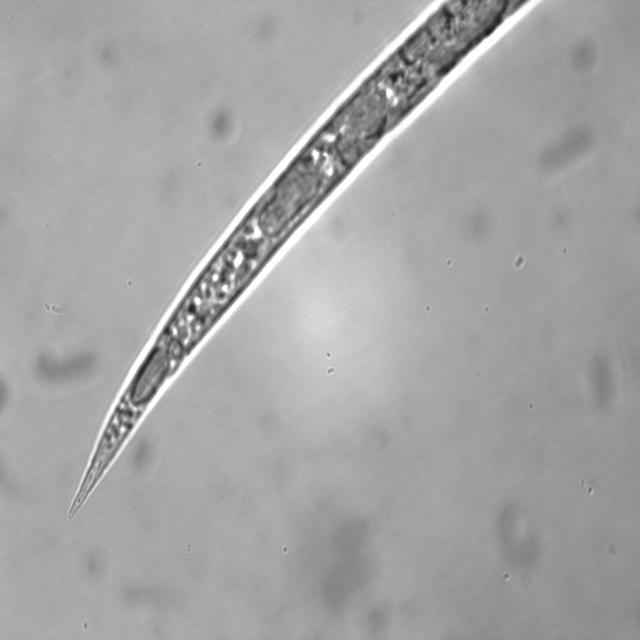Meloidogyne: (62, 348, 185, 526)
